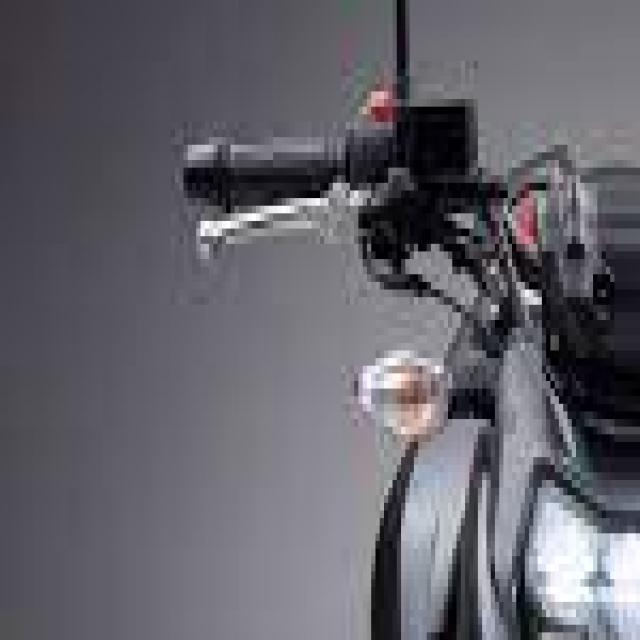bike: (183, 53, 640, 640)
